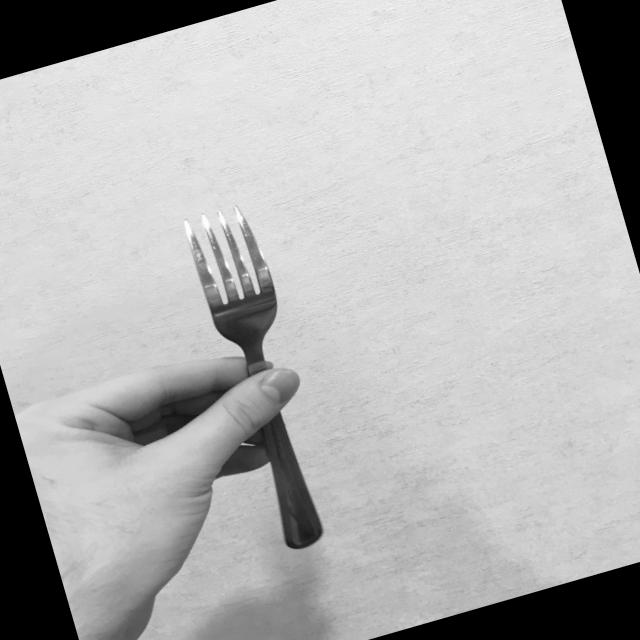fork: (178, 196, 349, 557)
